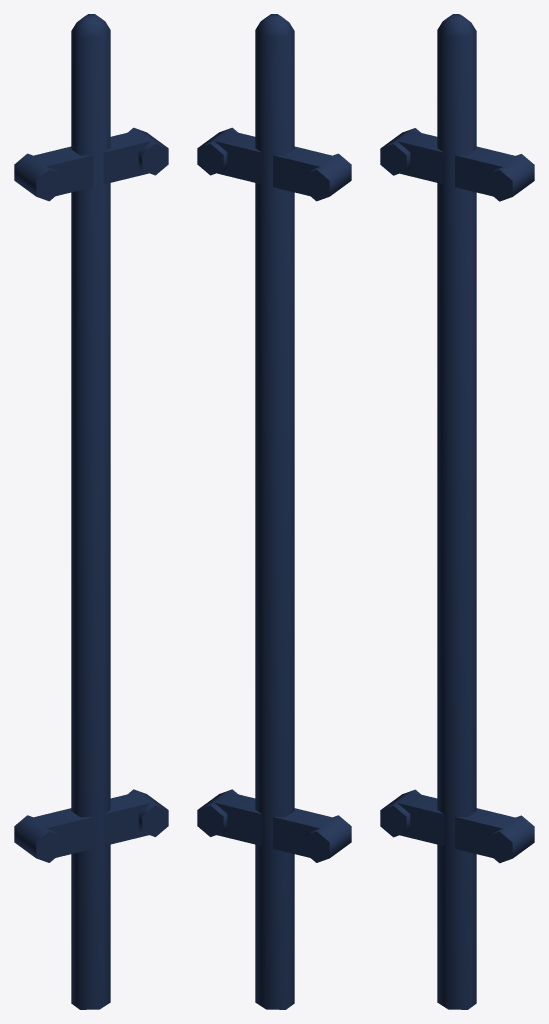
The model's file is Rail Post.fbx.
The picture shows the model from 3 angles, left to right: view 1: azimuth 30°, elevation 25°; view 2: azimuth 150°, elevation 25°; view 3: azimuth 330°, elevation 25°; orthographic projection.
Visible parts, largest first — view 1: Rail Post; view 2: Rail Post; view 3: Rail Post.
Boxes of the visible parts, <box> form: Rail Post: <box>14,14,168,1009</box>; Rail Post: <box>197,14,351,1009</box>; Rail Post: <box>380,14,534,1009</box>.
Size of the model in its own units: 0.1305 by 0.9281 by 0.0375.
